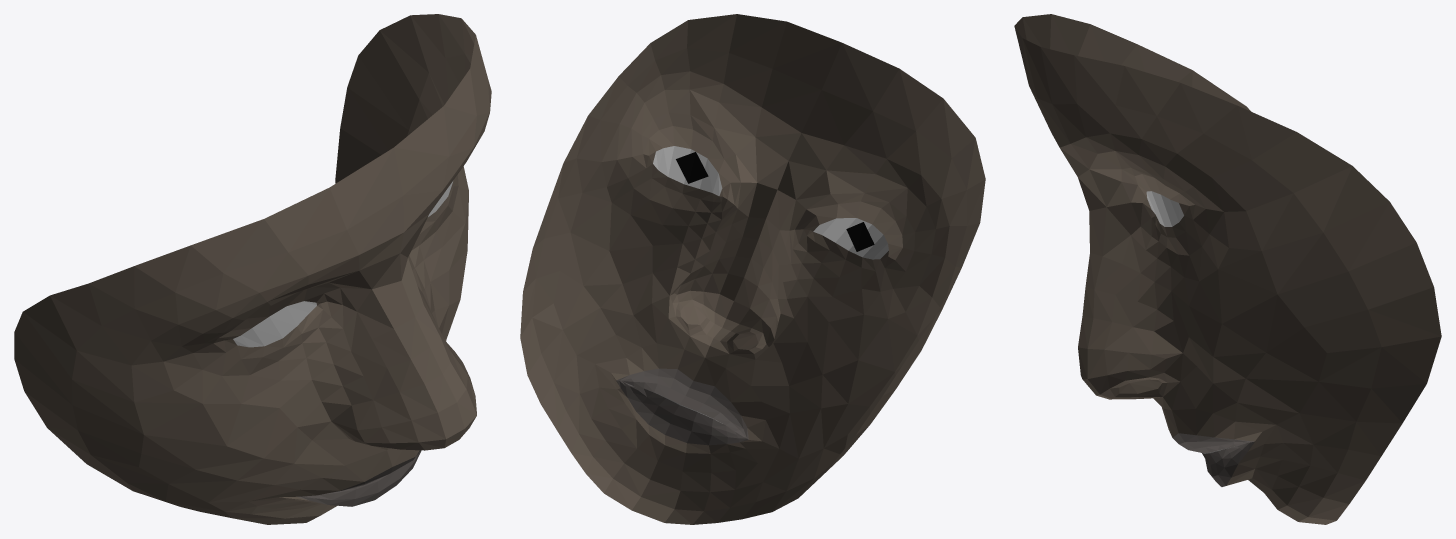
Rendered from IMG_6883.obj.
3 views of the same model, side by side, from view 1: azimuth 30°, elevation 25°; view 2: azimuth 150°, elevation 25°; view 3: azimuth 270°, elevation 25° (orthographic). The views are drawn at different scales.
Parts seen in each view (by area): view 1: face_model_with_iris; view 2: face_model_with_iris; view 3: face_model_with_iris.
Part boxes in pixels (bbox=[...]): face_model_with_iris: bbox=[14, 14, 491, 524]; face_model_with_iris: bbox=[520, 14, 985, 524]; face_model_with_iris: bbox=[1014, 14, 1441, 524].
Size of the model in its own units: 0.8693 by 0.9972 by 0.7972.
